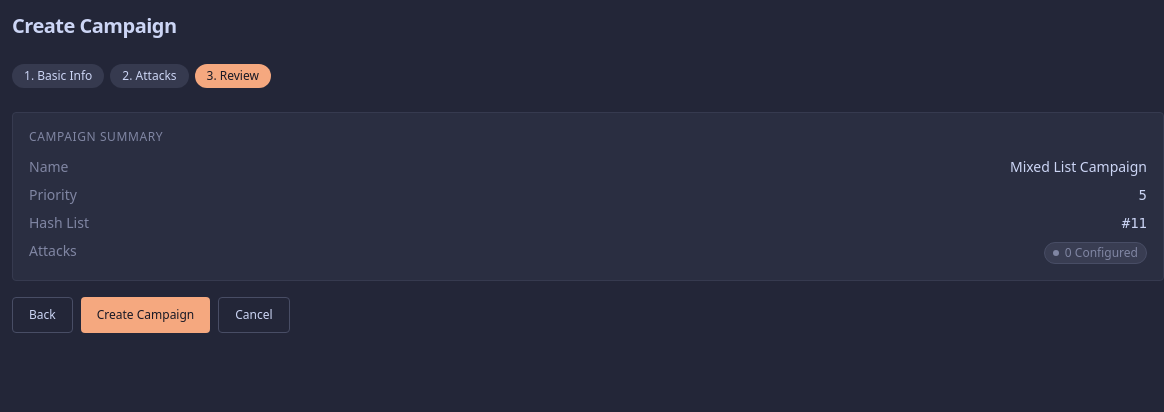
Test case: CampaignCreatePage async split-pending -> status polling (issue #202 SU7) › shows an error banner and stops the Analyzing panel when the status poll errors
Click the button "Create Campaign": (146, 315) left=81, top=297, right=210, bottom=333
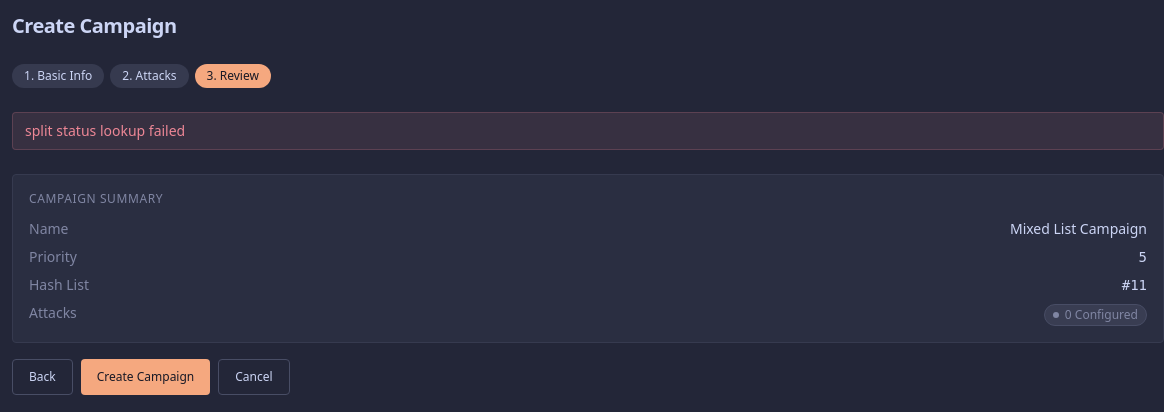
Check: the button "Create Campaign" is shown, box left=81, top=359, right=210, bottom=395
Check: the text "split status lookup failed" is shown, box left=12, top=112, right=1163, bottom=150
